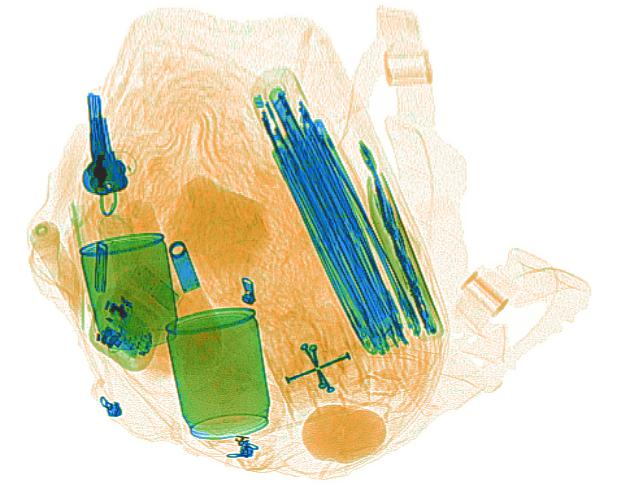USBFlashDisk: (128, 261, 181, 314)
